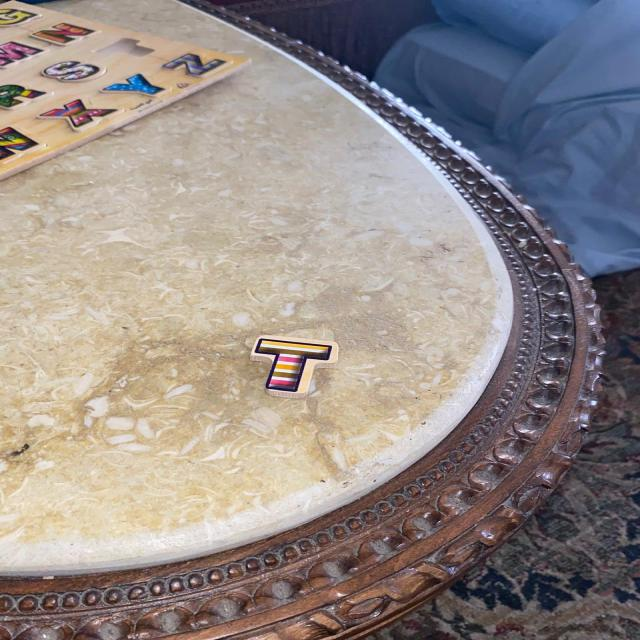T: (251, 336, 338, 397)
